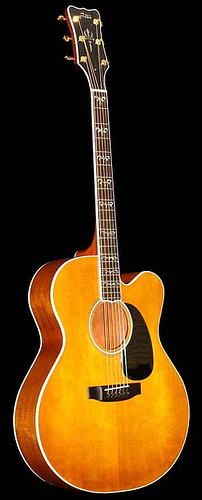guitar: (1, 1, 202, 499)
